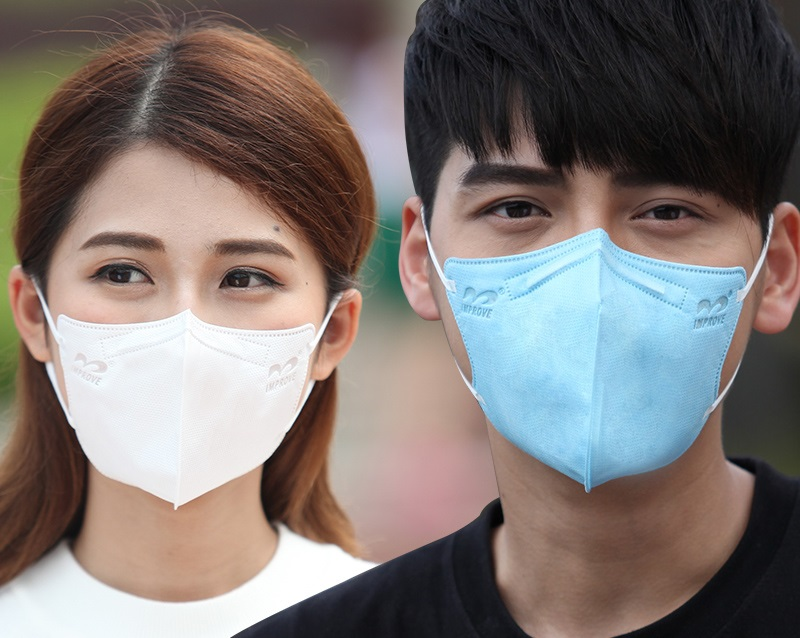face_mask: (436, 84, 751, 439), (47, 151, 323, 507)
